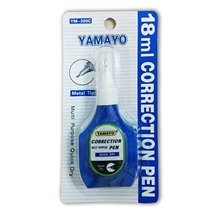Correction_fluid: (77, 47, 140, 190)
